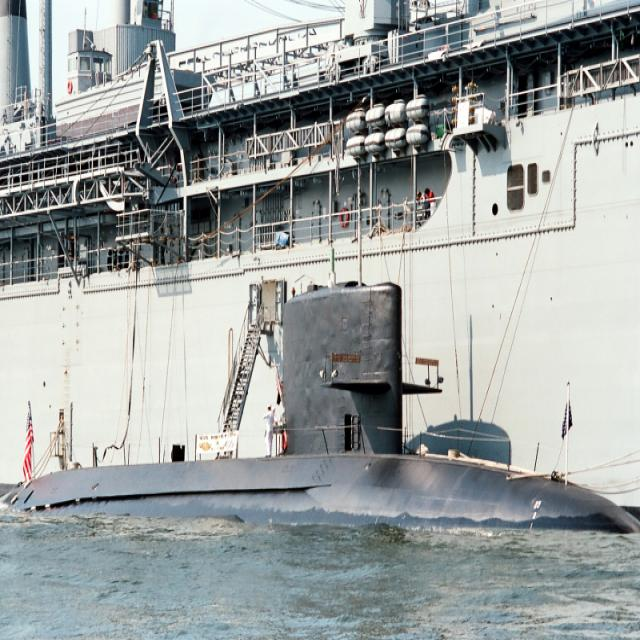submarine: (2, 285, 640, 531)
